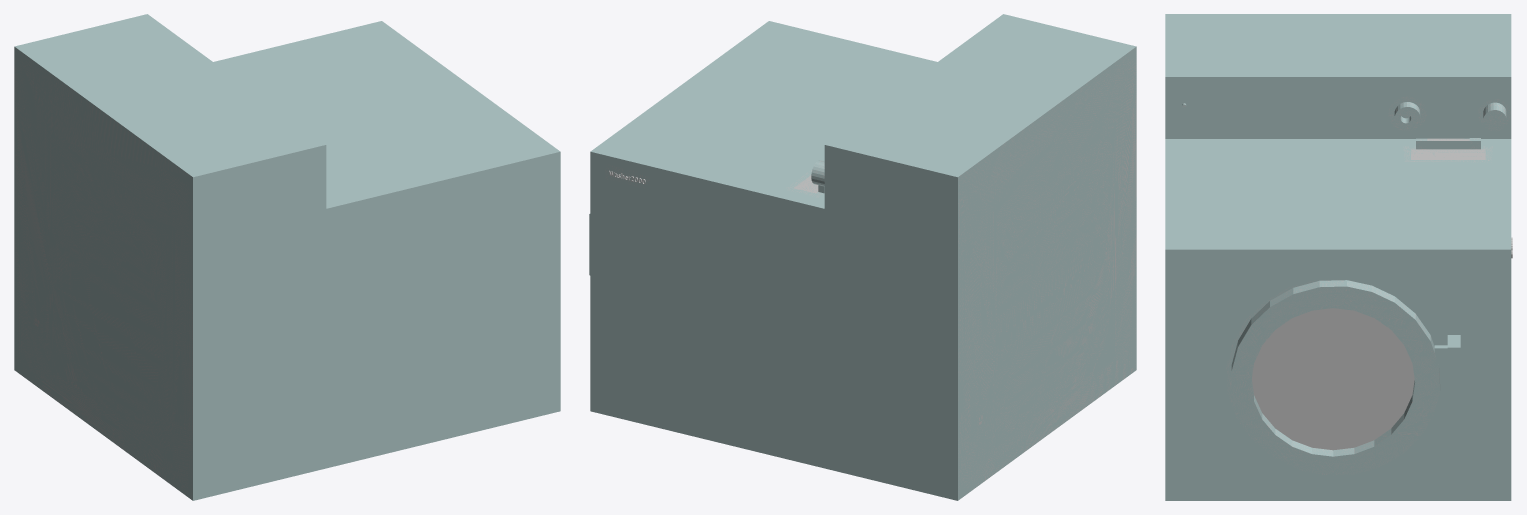
3 renders of one model, left to right at view 1: azimuth 30°, elevation 25°; view 2: azimuth 150°, elevation 25°; view 3: azimuth 270°, elevation 25°, orthographic. The views are drawn at different scales.
Visible parts, largest first — view 1: mesh32_mesh32-geometry; view 2: mesh32_mesh32-geometry; view 3: mesh32_mesh32-geometry.
Boxes of the visible parts, x1,y1,x2,y2 form: mesh32_mesh32-geometry: (14, 14, 560, 500); mesh32_mesh32-geometry: (589, 14, 1136, 500); mesh32_mesh32-geometry: (1165, 14, 1511, 500).
Bounding box in the file's own units: 0.6691 × 0.5243 × 0.5267.
